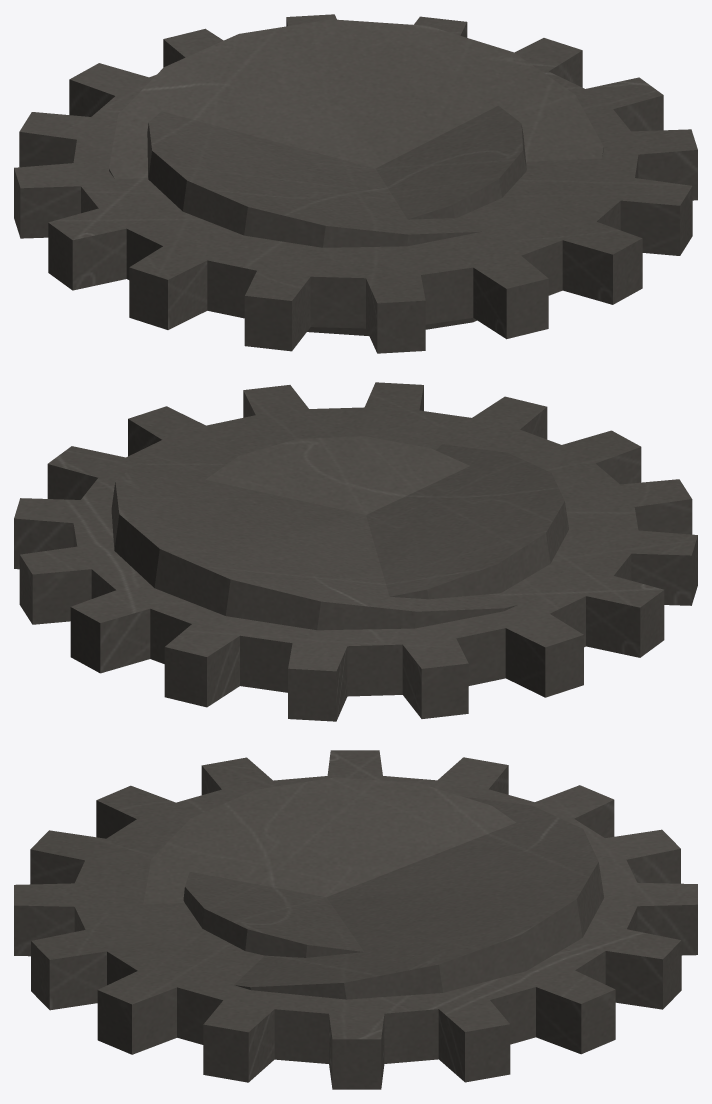
File: engrenage3.fbx
The picture shows the model from 3 angles, top to bottom: view 1: azimuth 30°, elevation 25°; view 2: azimuth 150°, elevation 25°; view 3: azimuth 270°, elevation 25°; orthographic projection.
Visible parts, largest first — view 1: Circle; view 2: Circle; view 3: Circle.
Part boxes in pixels (<box>): Circle: <box>14,14,697,353</box>; Circle: <box>14,382,697,721</box>; Circle: <box>14,750,697,1089</box>.
Bounding box in the file's own units: 2.71 × 0.4986 × 2.71.
